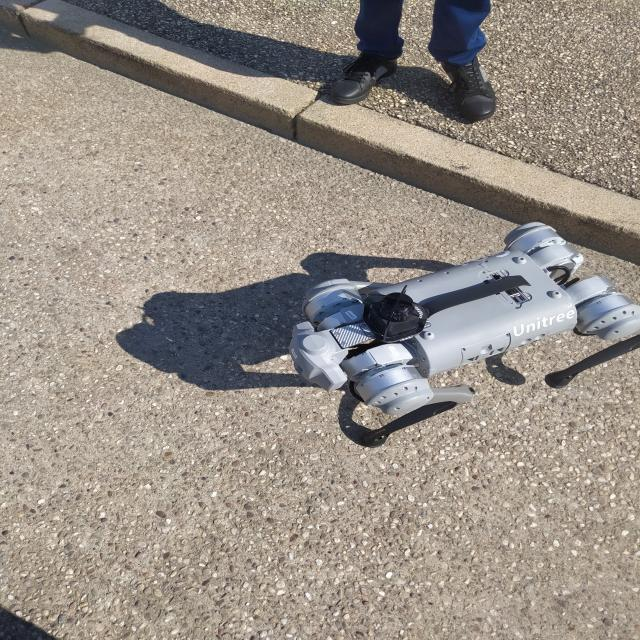unitree-go1-robot: (299, 226, 640, 444)
